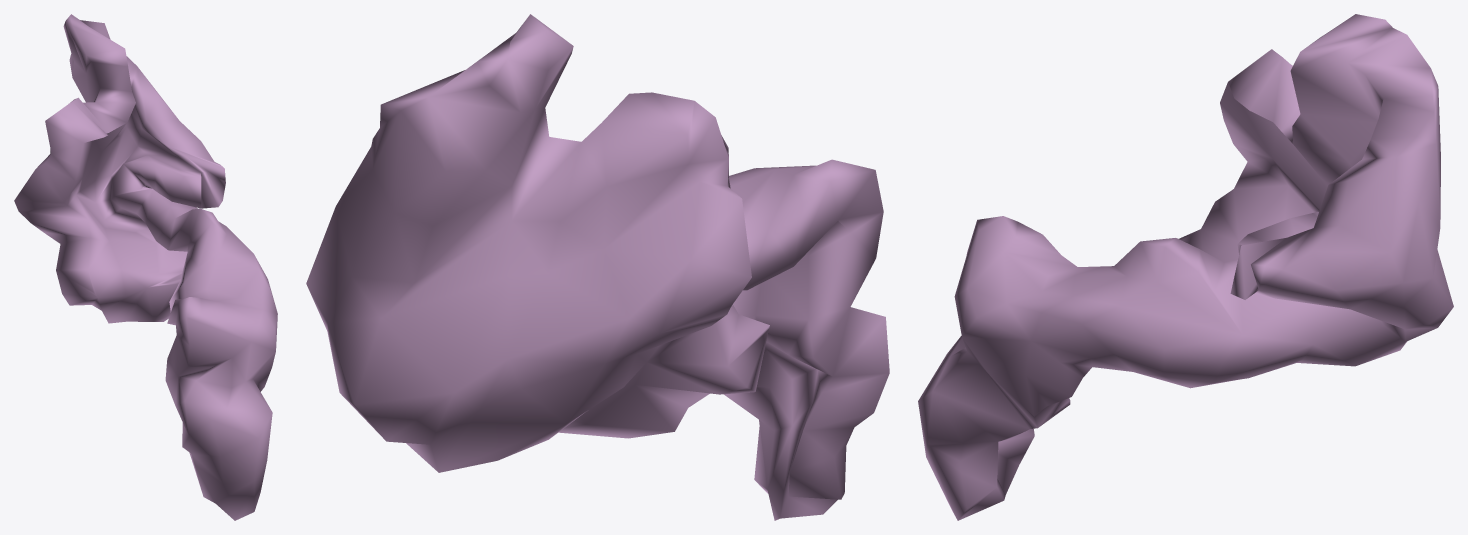
3 views of the same model, side by side, from view 1: azimuth 30°, elevation 25°; view 2: azimuth 150°, elevation 25°; view 3: azimuth 270°, elevation 25° (orthographic). The views are drawn at different scales.
Visible parts, largest first — view 1: 左侧额下回岛盖部; view 2: 左侧额下回岛盖部; view 3: 左侧额下回岛盖部.
Part boxes in pixels (x1,y1,x2,y2): 左侧额下回岛盖部: [14, 14, 277, 520]; 左侧额下回岛盖部: [306, 14, 889, 520]; 左侧额下回岛盖部: [918, 14, 1453, 520].
Bounding box in the file's own units: 0.0333 × 0.0587 × 0.0579.
